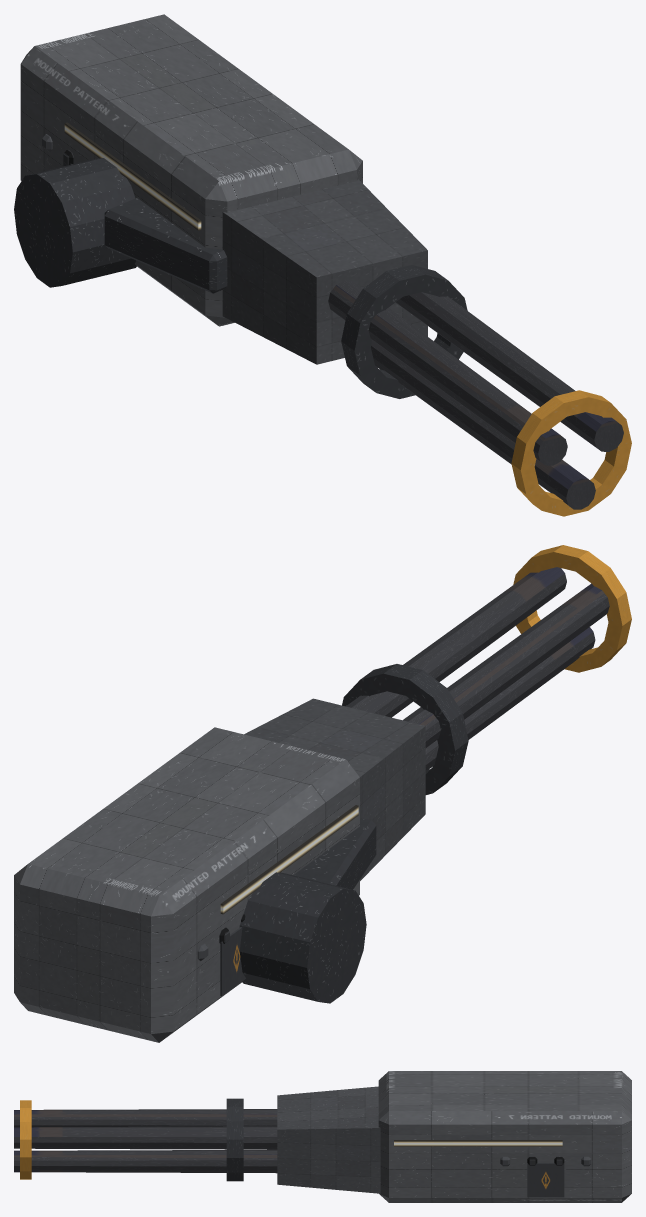
File: col_cannon.obj
The picture shows the model from 3 angles, top to bottom: view 1: azimuth 30°, elevation 25°; view 2: azimuth 150°, elevation 25°; view 3: azimuth 270°, elevation 25°; orthographic projection. The views are drawn at different scales.
Visible parts, largest first — view 1: col_cannon; view 2: col_cannon; view 3: col_cannon.
Boxes of the visible parts, x1=… form: col_cannon: x1=14, y1=14, x2=631, y2=516; col_cannon: x1=14, y1=545, x2=631, y2=1042; col_cannon: x1=14, y1=1071, x2=631, y2=1202.
Bounding box in the file's own units: 0.5 × 0.3072 × 1.83.
1 material, 1 textured.
